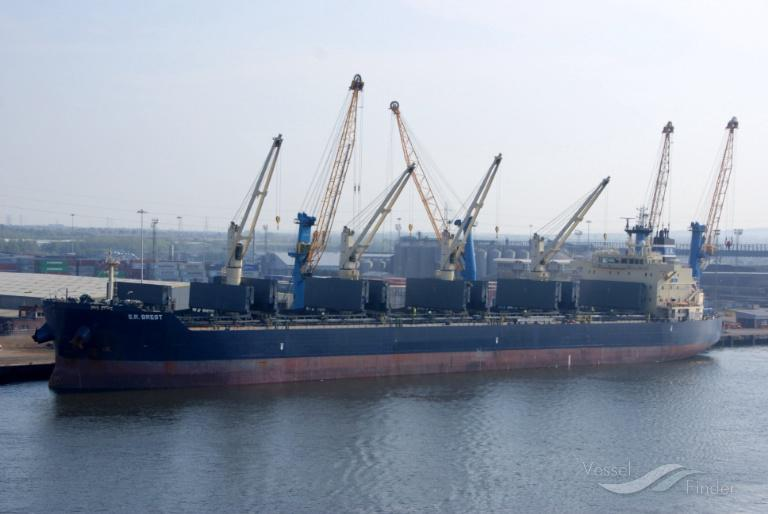OCR: (124, 311, 167, 322)
